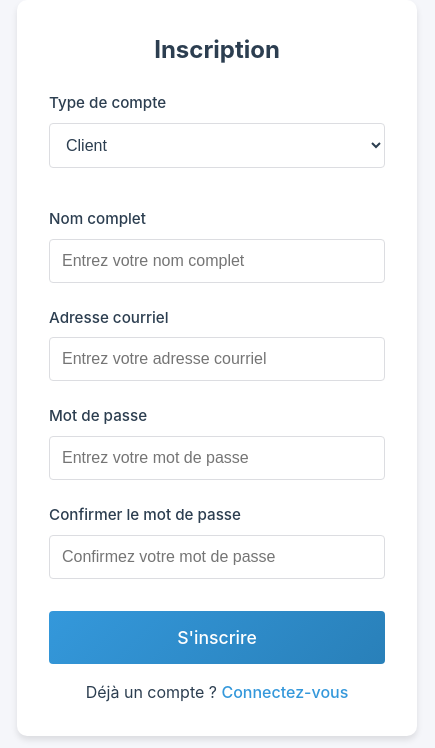
Test case: Inscription Component › devrait afficher une erreur si les champs sont vides
What coordinates should you click on to do the following:
click the button "S'inscrire"
I would click on:
 (217, 638)
Its box is [49,611,385,664].
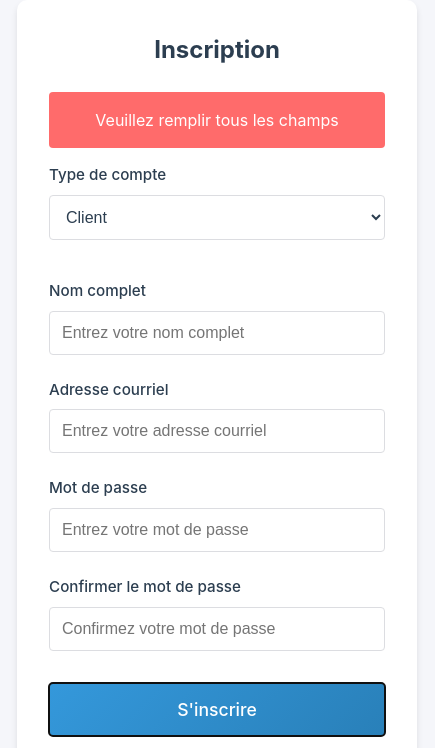
Check: the text "Veuillez remplir tous les champs" is shown, box [49,92,385,148]
